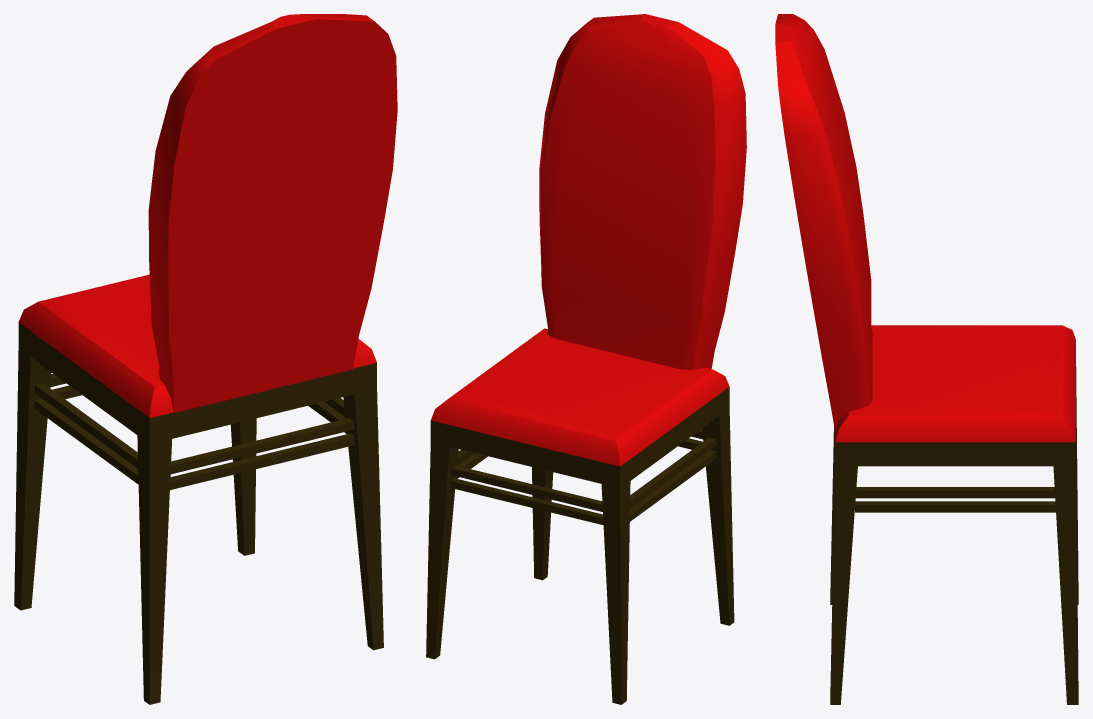
The model's file is 8_CHAIR2.fbx.
3 views of the same model, side by side, from view 1: azimuth 30°, elevation 25°; view 2: azimuth 150°, elevation 25°; view 3: azimuth 270°, elevation 25° (orthographic). The views are drawn at different scales.
Visible parts, largest first — view 1: chair2_foam1, chair2_legs1; view 2: chair2_foam1, chair2_legs1; view 3: chair2_foam1, chair2_legs1.
Boxes of the visible parts, x1,y1,x2,y2 form: chair2_foam1: [18, 14, 397, 417]; chair2_legs1: [14, 322, 383, 704]; chair2_foam1: [431, 14, 746, 466]; chair2_legs1: [426, 387, 734, 704]; chair2_foam1: [775, 14, 1075, 442]; chair2_legs1: [830, 367, 1078, 704].
Size of the model in its own units: 1.43 by 3.93 by 1.75.
